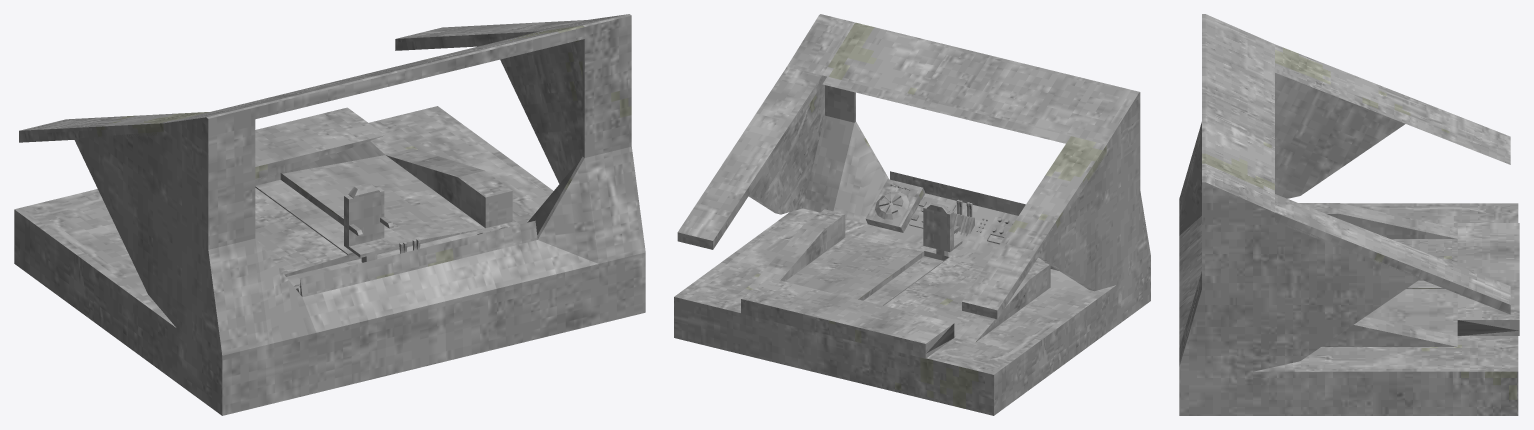
Rendered from insidespaceship.fbx.
The picture shows the model from 3 angles, left to right: view 1: azimuth 30°, elevation 25°; view 2: azimuth 150°, elevation 25°; view 3: azimuth 270°, elevation 25°; orthographic projection. The views are drawn at different scales.
Visible parts, largest first — view 1: panel; view 2: panel; view 3: panel.
Part boxes in pixels (x1,y1,x2,y2): panel: [14, 14, 645, 415]; panel: [674, 14, 1150, 415]; panel: [1179, 14, 1519, 415].
Bounding box in the file's own units: 629 × 407 × 537.
Materials: 2 (1 with a texture image).
